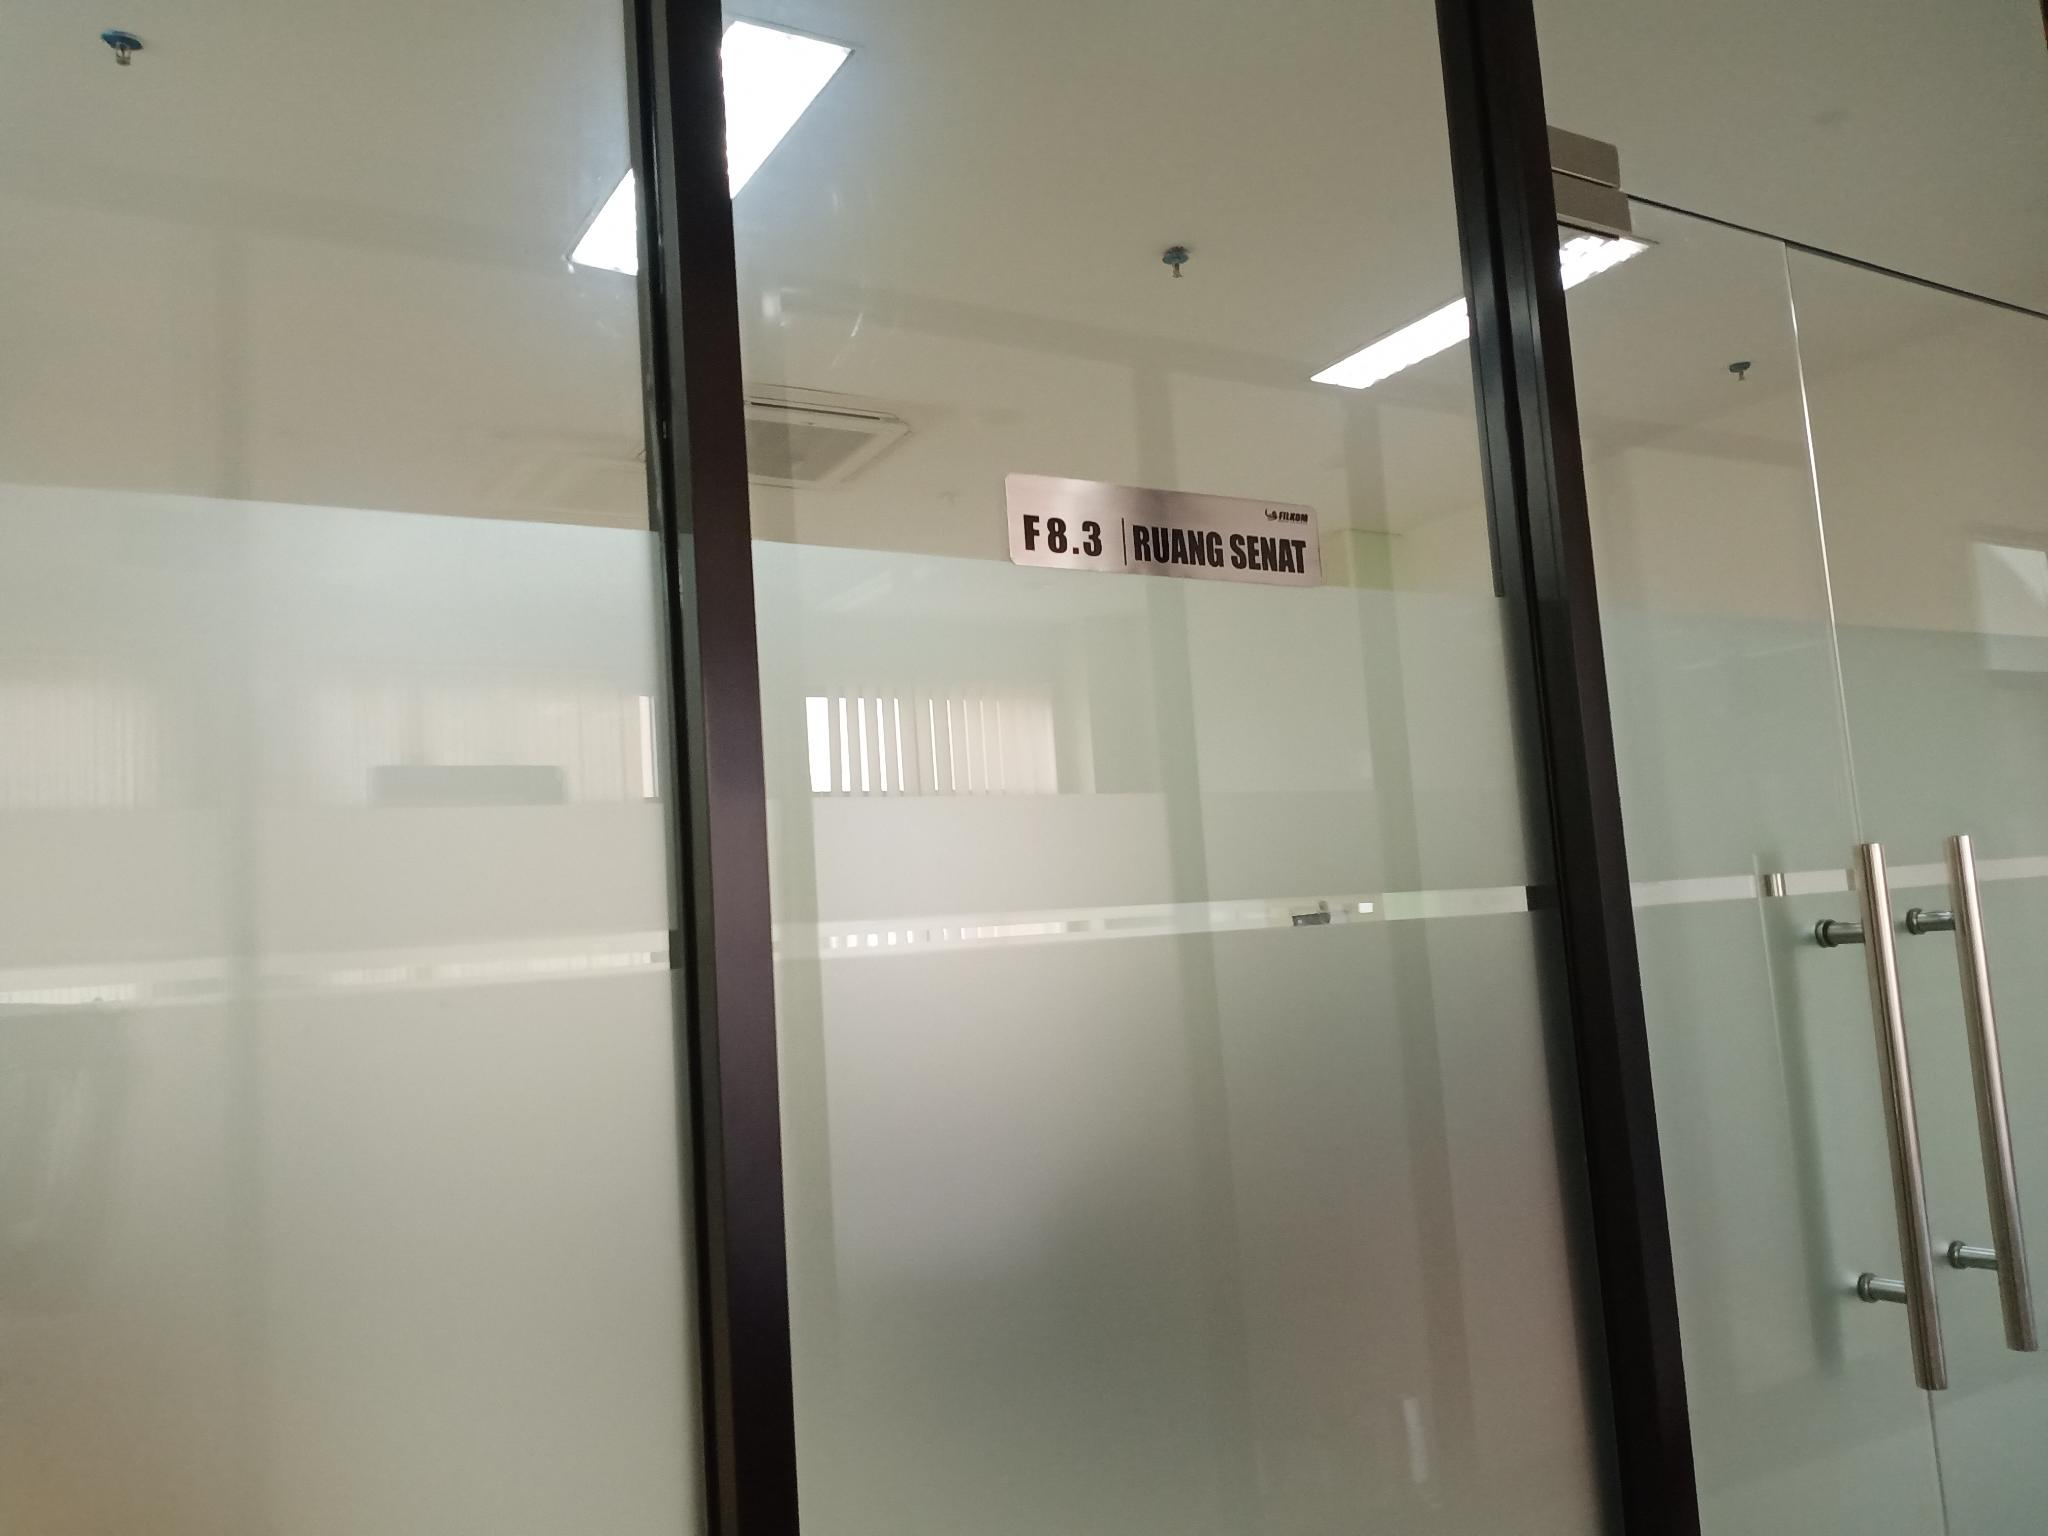plate: (1005, 471, 1324, 587)
